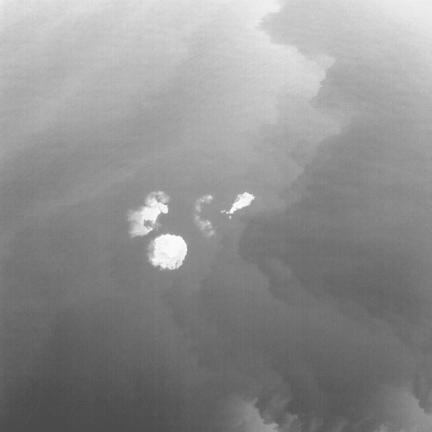flukeprints: (148, 234, 187, 269), (221, 192, 254, 217), (142, 197, 167, 224)
